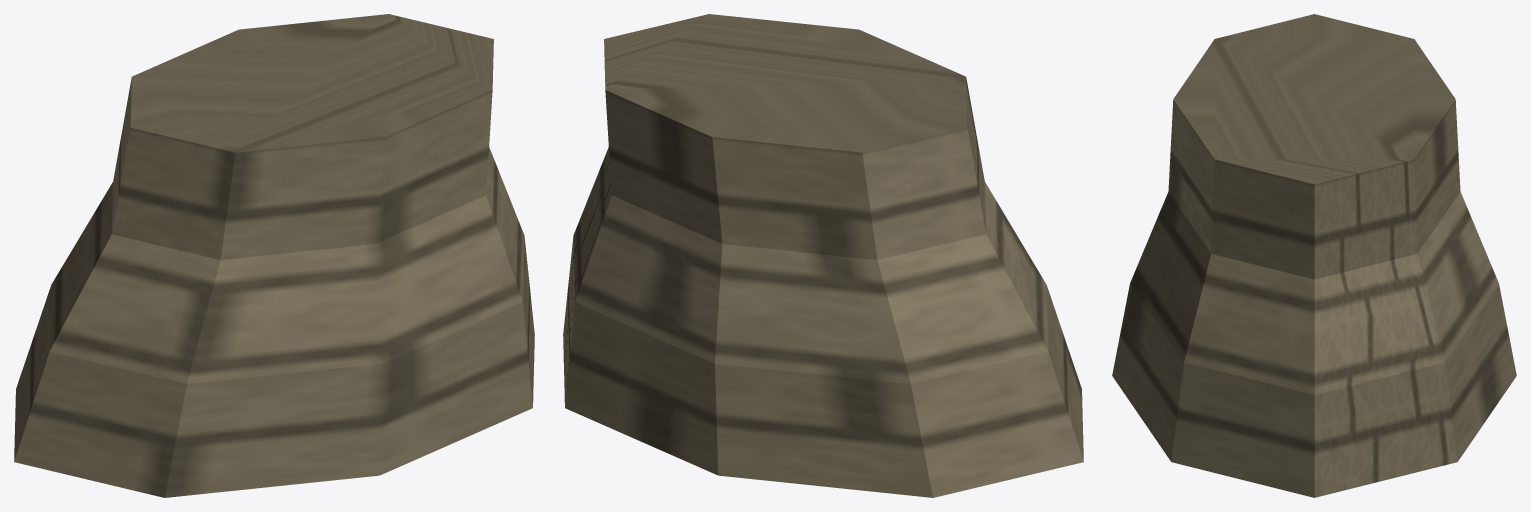
File: cliff-sandstone-lod1.glb
The picture shows the model from 3 angles, left to right: view 1: azimuth 30°, elevation 25°; view 2: azimuth 150°, elevation 25°; view 3: azimuth 270°, elevation 25°; orthographic projection. The views are drawn at different scales.
Bounding box in the file's own units: 0.552 × 0.31 × 0.3864.
Materials: 1 (1 with a texture image).
